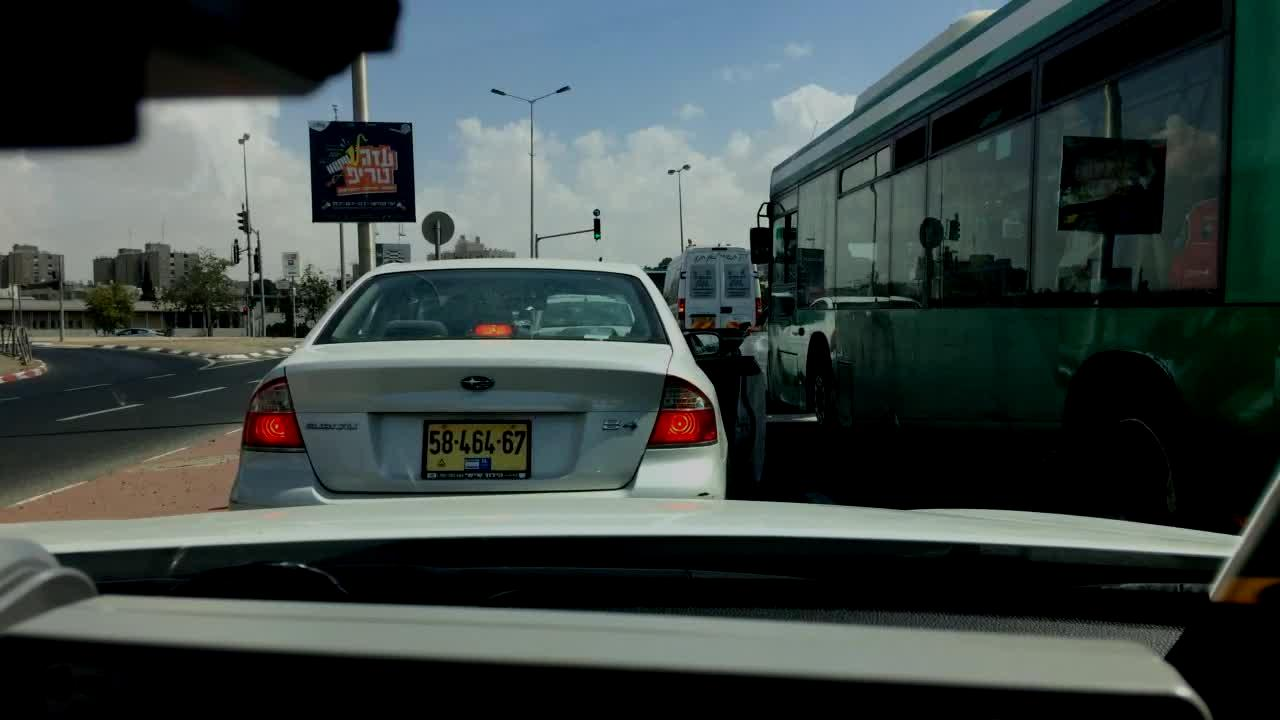subaru: (451, 363, 515, 414)
